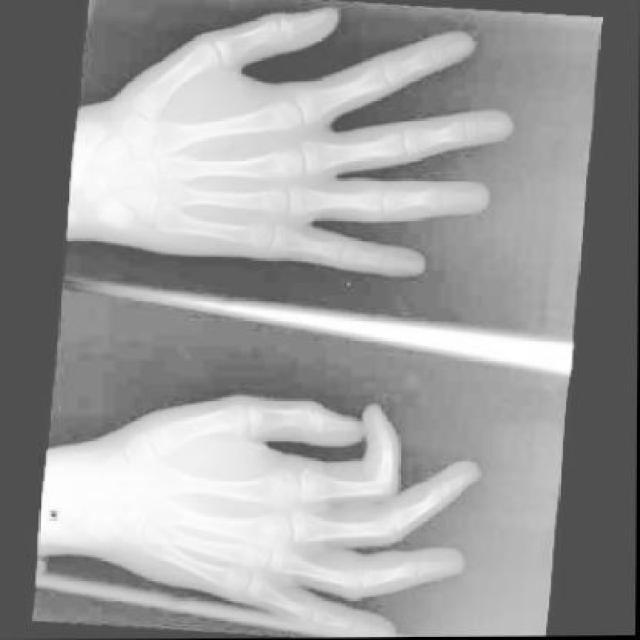Fracture: (425, 183, 445, 210), (406, 557, 424, 580)
